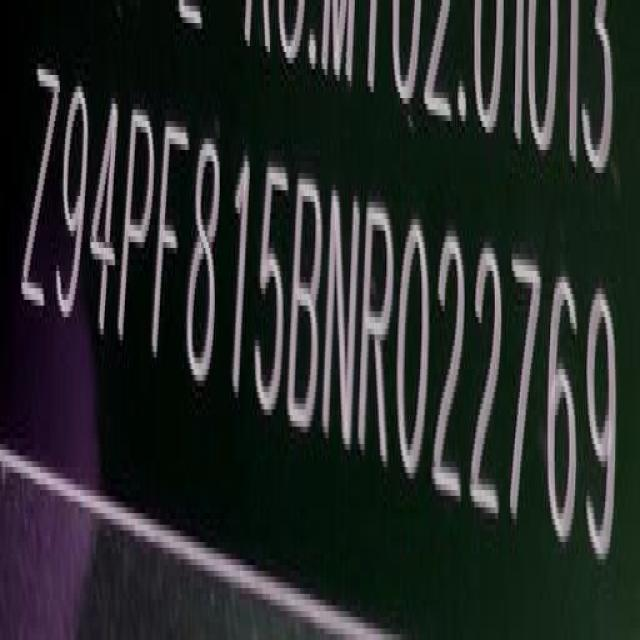0: (396, 210, 432, 488)
1: (228, 149, 251, 393)
2: (469, 240, 504, 520), (434, 224, 466, 501)
4: (92, 82, 121, 344)
5: (257, 159, 287, 423)
6: (546, 272, 578, 555)
7: (508, 247, 542, 539)
8: (190, 130, 221, 396)
9: (587, 285, 621, 566), (58, 73, 90, 329)
B: (291, 167, 325, 440)
F: (153, 117, 191, 382)
N: (326, 180, 360, 456)
P: (124, 98, 156, 362)
R: (361, 190, 396, 466)
Z: (21, 50, 58, 320)
